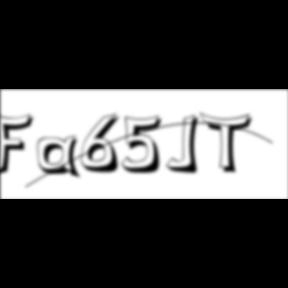5: (122, 114, 168, 176)
6: (82, 112, 126, 176)
F: (1, 110, 40, 178)
J: (166, 114, 206, 176)
T: (200, 112, 258, 176)
a: (37, 135, 85, 182)
